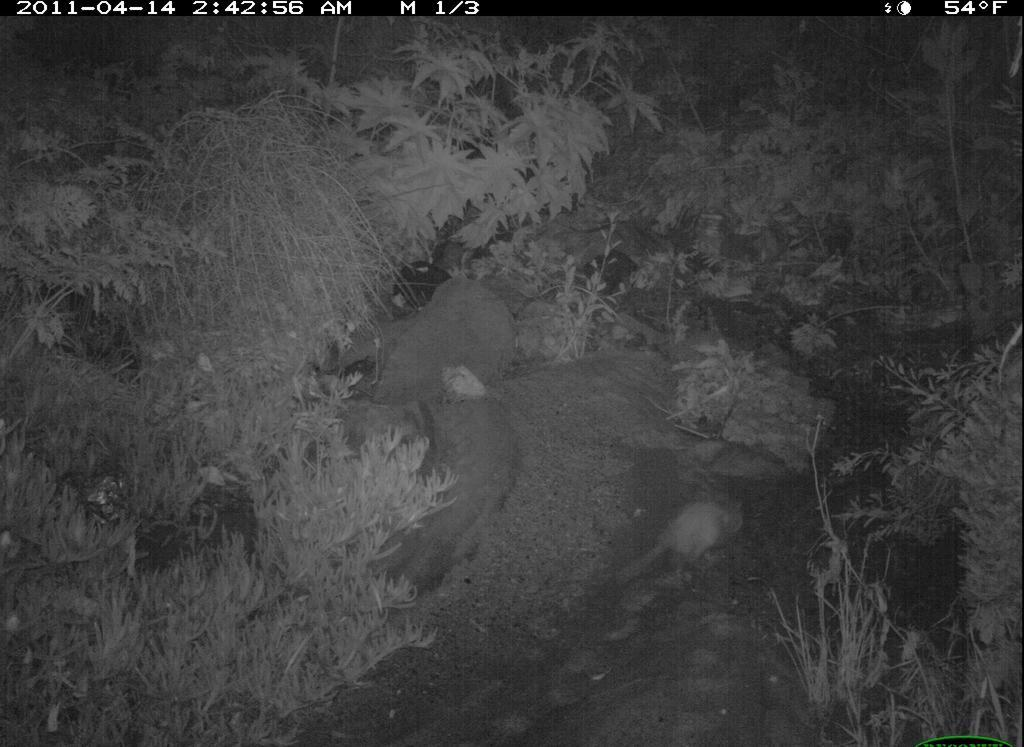opossum: (605, 489, 753, 598)
